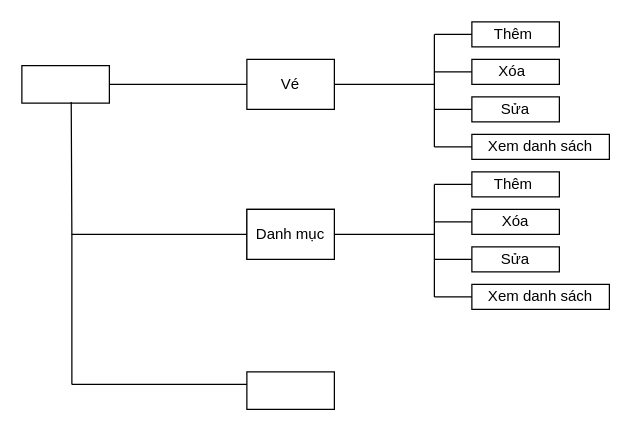
This 631x431 diagram has some shape labels left out. Here are the shapes that lost their labels. From the top down, the box of each, then its label:
(21, 64, 109, 103): Admin
(246, 371, 334, 409): Đăng nhập
